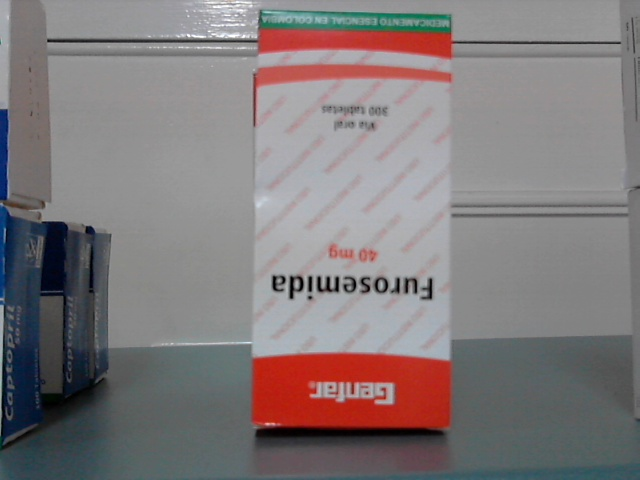Genfar: (256, 10, 451, 426)
